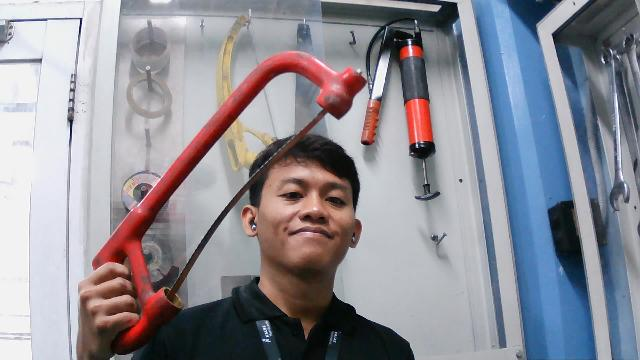gergaji_besi: (85, 50, 369, 359)
